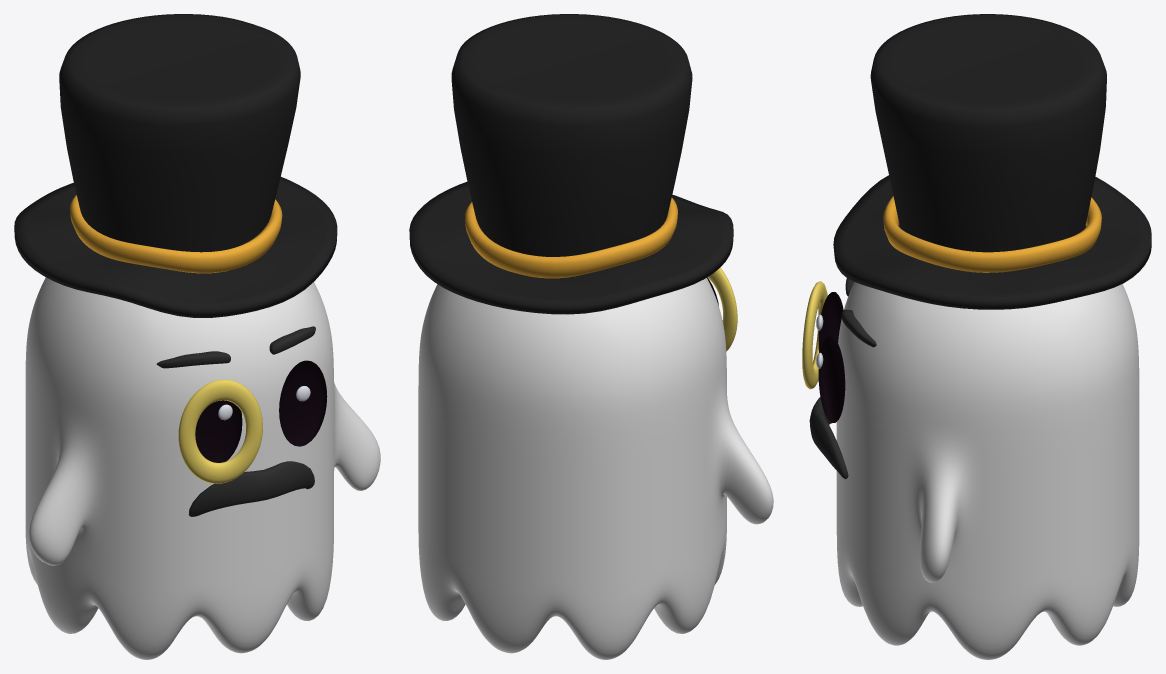
The model's file is IonLucaCaragiale.fbx.
3 renders of one model, left to right at view 1: azimuth 30°, elevation 25°; view 2: azimuth 150°, elevation 25°; view 3: azimuth 270°, elevation 25°, orthographic.
Parts seen in each view (by area): view 1: Ghost, Hat, Eyes, Hat_Ring, Monocle, Mustache, Brow_R, Brow_L; view 2: Ghost, Hat, Hat_Ring, Monocle; view 3: Ghost, Hat, Hat_Ring, Eyes, Monocle, Mustache, Brow_L.
Part boxes in pixels (x1,y1,x2,y2): Ghost: [25, 277, 380, 659]; Hat: [14, 14, 337, 317]; Eyes: [195, 360, 327, 462]; Hat_Ring: [70, 195, 282, 273]; Monocle: [178, 379, 262, 483]; Mustache: [188, 461, 314, 516]; Brow_R: [156, 351, 230, 368]; Brow_L: [269, 326, 315, 354]; Ghost: [418, 278, 773, 659]; Hat: [409, 14, 733, 314]; Hat_Ring: [465, 197, 677, 278]; Monocle: [707, 267, 737, 351]; Ghost: [836, 282, 1139, 659]; Hat: [833, 14, 1151, 309]; Hat_Ring: [883, 196, 1101, 272]; Eyes: [816, 292, 845, 422]; Monocle: [802, 281, 827, 389]; Mustache: [809, 397, 848, 479]; Brow_L: [841, 309, 876, 347].
Bounding box in the file's own units: 222 × 331 × 193.
